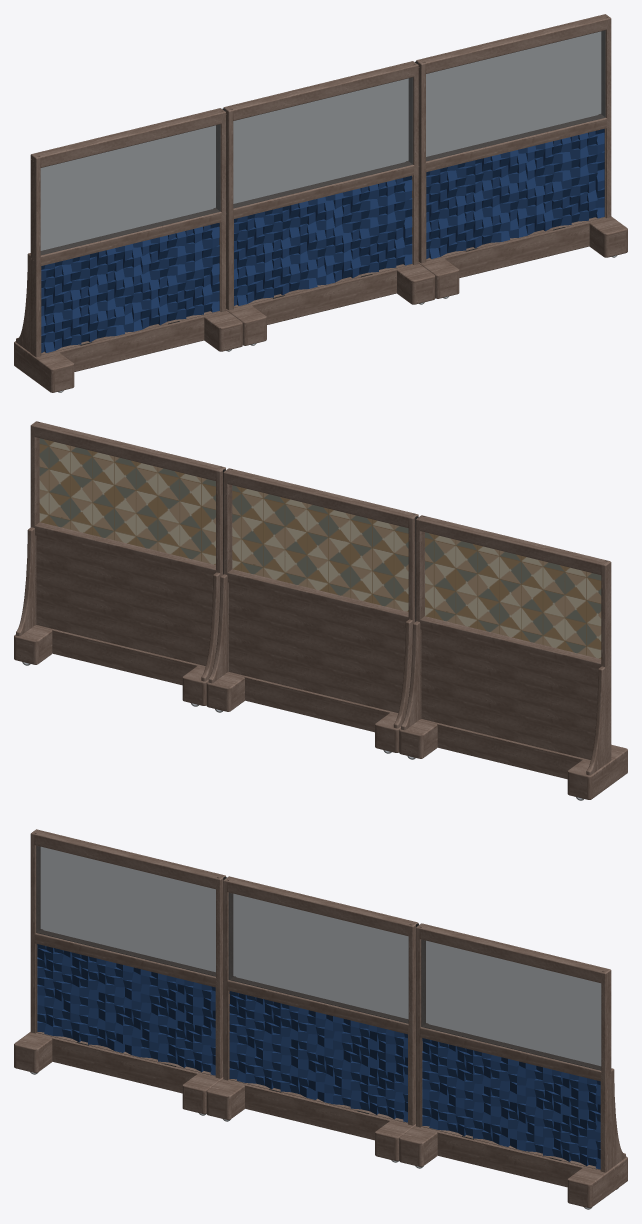
Rendered from v10-linen-marquetry-smoked-oak-three.glb.
The picture shows the model from 3 angles, top to bottom: view 1: azimuth 30°, elevation 25°; view 2: azimuth 150°, elevation 25°; view 3: azimuth 330°, elevation 25°; orthographic projection.
Parts seen in each view (by area): view 1: Left Wood, Left Linen Marquetry reverse, Linen Marquetry reverse, Right Linen Marquetry reverse, Right Navy Everwood relief, Left Navy Everwood relief, Navy Everwood relief, Right Wood, Wood; view 2: Left Wood, Wood, Right Wood, Linen Marquetry print, Right Linen Marquetry print, Left Linen Marquetry print; view 3: Right Wood, Linen Marquetry reverse, Right Linen Marquetry reverse, Left Linen Marquetry reverse, Left Navy Everwood relief, Right Navy Everwood relief, Navy Everwood relief, Left Wood, Wood.
Part boxes in pixels (x1=…): Left Wood: x1=14, y1=108, x2=242, y2=392; Left Linen Marquetry reverse: x1=40, y1=124, x2=220, y2=255; Linen Marquetry reverse: x1=233, y1=77, x2=413, y2=208; Right Linen Marquetry reverse: x1=426, y1=30, x2=605, y2=161; Right Navy Everwood relief: x1=426, y1=128, x2=604, y2=258; Left Navy Everwood relief: x1=41, y1=223, x2=219, y2=352; Navy Everwood relief: x1=234, y1=175, x2=412, y2=305; Right Wood: x1=416, y1=14, x2=627, y2=298; Wood: x1=223, y1=61, x2=435, y2=345; Left Wood: x1=399, y1=515, x2=627, y2=799; Wood: x1=206, y1=468, x2=418, y2=752; Right Wood: x1=14, y1=421, x2=225, y2=705; Linen Marquetry print: x1=232, y1=485, x2=408, y2=611; Right Linen Marquetry print: x1=39, y1=438, x2=215, y2=564; Left Linen Marquetry print: x1=425, y1=532, x2=601, y2=658; Right Wood: x1=399, y1=923, x2=627, y2=1207; Linen Marquetry reverse: x1=228, y1=892, x2=408, y2=1023; Right Linen Marquetry reverse: x1=421, y1=940, x2=601, y2=1070; Left Linen Marquetry reverse: x1=36, y1=846, x2=215, y2=976; Left Navy Everwood relief: x1=37, y1=944, x2=215, y2=1075; Right Navy Everwood relief: x1=422, y1=1038, x2=600, y2=1169; Navy Everwood relief: x1=229, y1=991, x2=407, y2=1122; Left Wood: x1=14, y1=829, x2=225, y2=1114; Wood: x1=206, y1=876, x2=418, y2=1161.
Bounding box in the file's own units: 5.03 × 1.91 × 0.5842.
10 materials, 2 textured.
